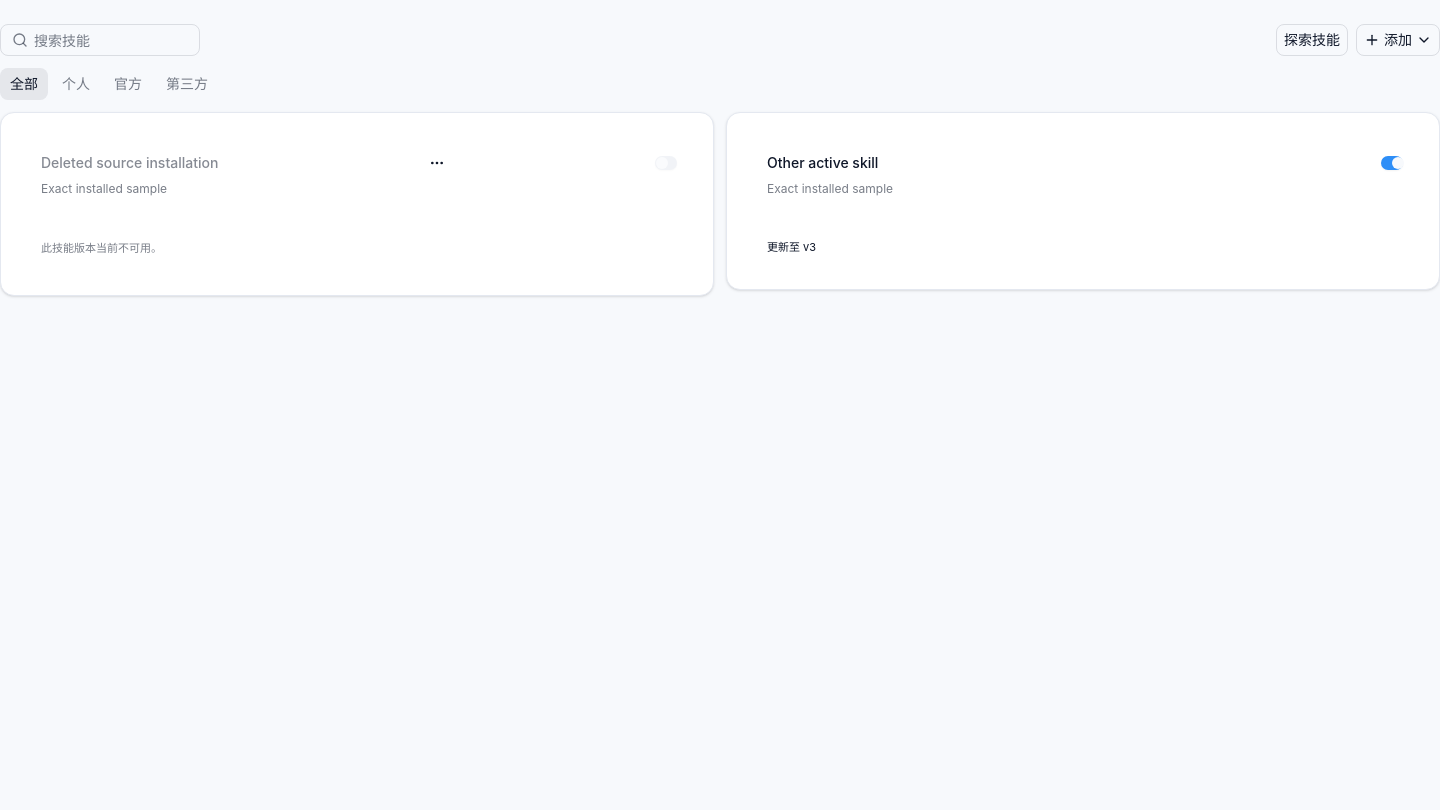
Test: keeps other installation writes interlocked while the deleted card's target read is pending
Check: the button "Deleted source installation" is shown, box left=41, top=145, right=218, bottom=181
Press ArrowDown in the button named "更多技能操作", box left=421, top=147, right=453, bottom=179
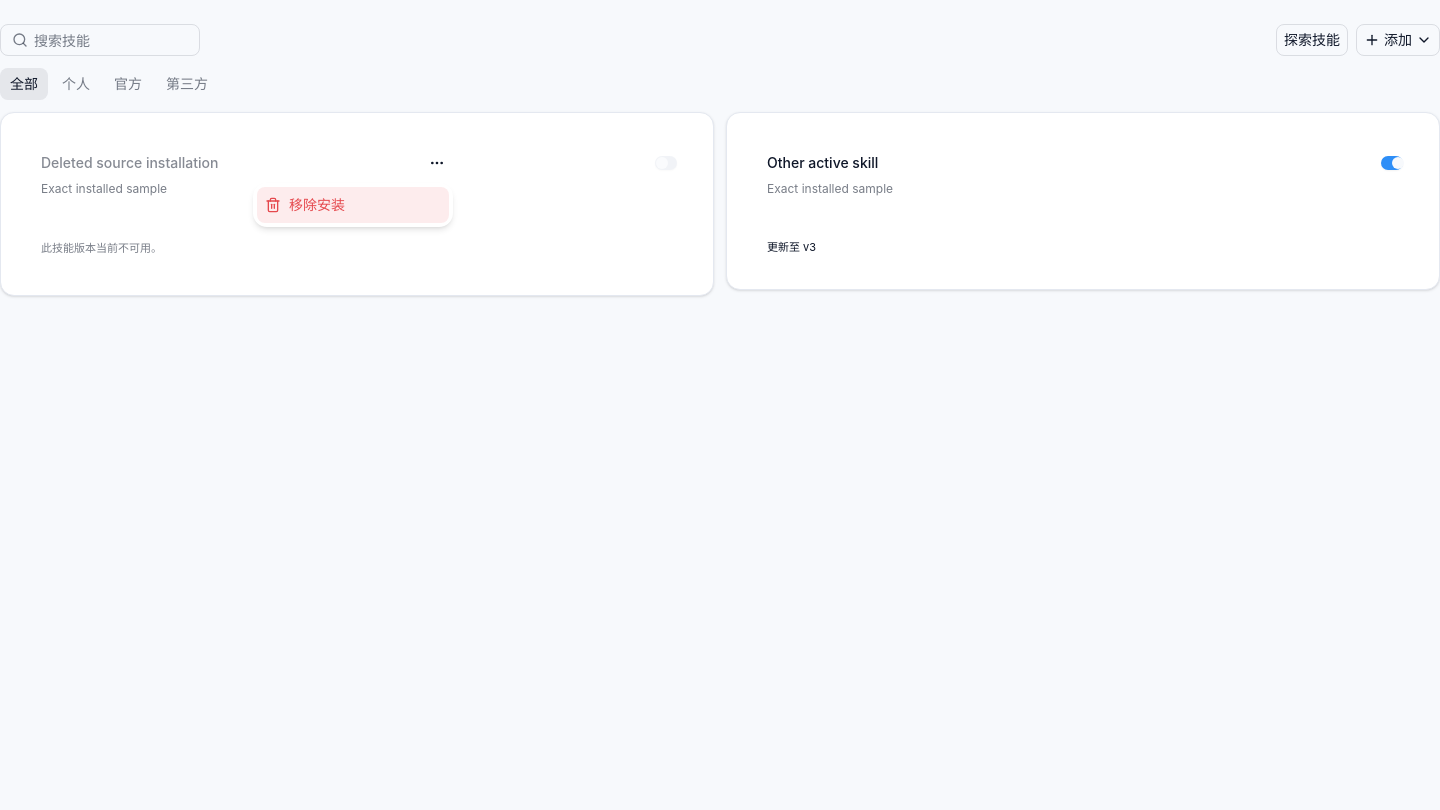
Click the menu item "移除安装": (353, 205) left=257, top=187, right=449, bottom=223
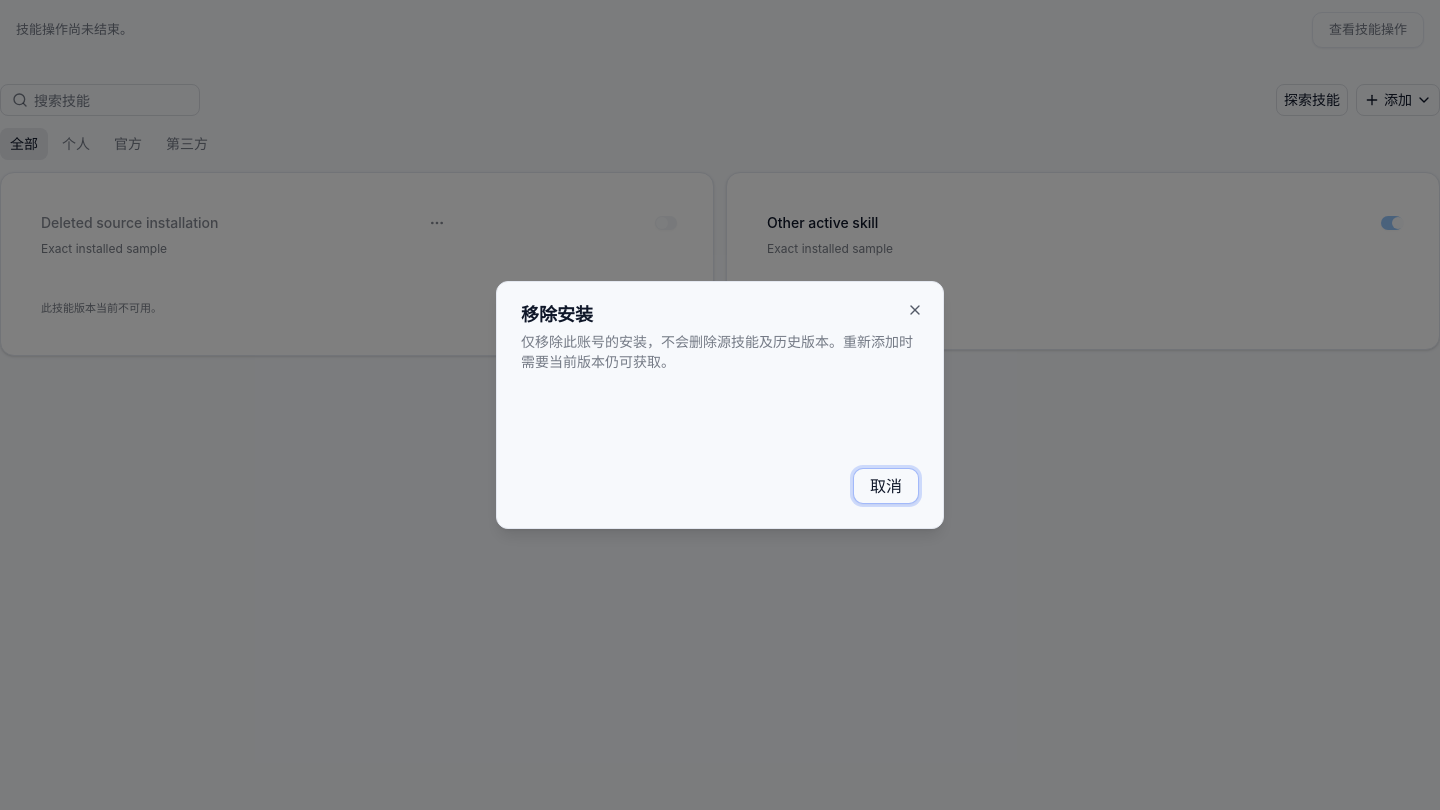
Check: the switch named "停用 Other active skill" is disabled, box left=1381, top=216, right=1403, bottom=230
Check: the button named "更多技能操作" is disabled, box left=421, top=207, right=453, bottom=239
